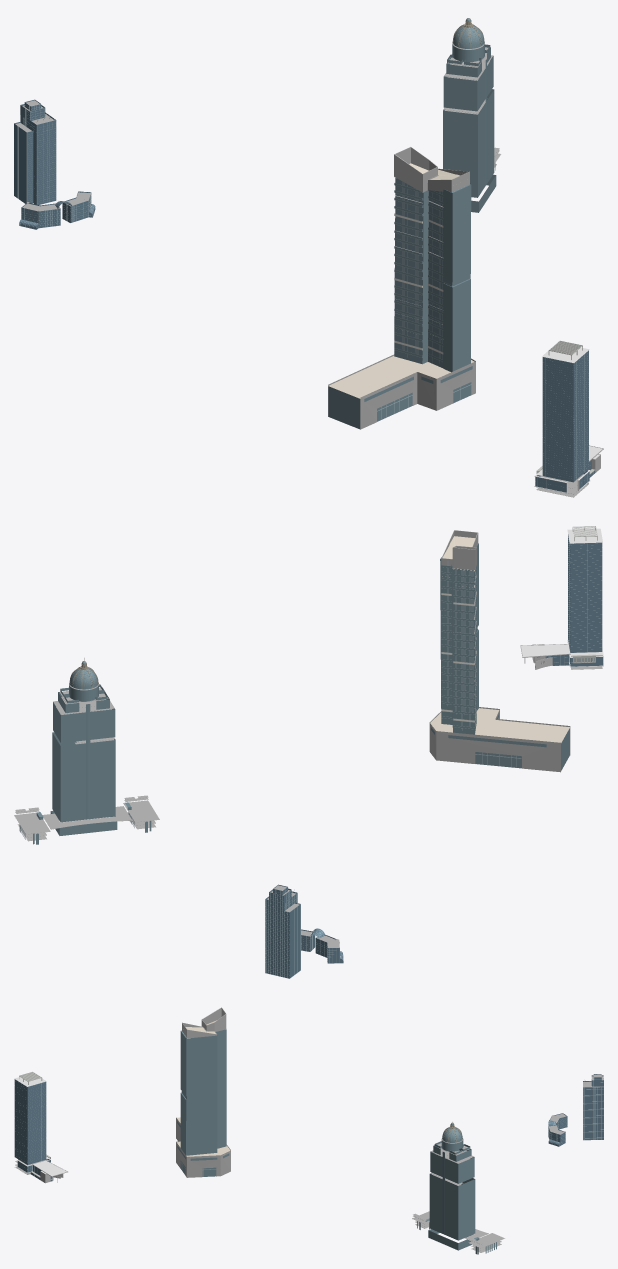
Rendered from lujiazui-18.glb.
3 renders of one model, top to bottom at view 1: azimuth 30°, elevation 25°; view 2: azimuth 150°, elevation 25°; view 3: azimuth 270°, elevation 25°, orthographic. The views are drawn at different scales.
Visible parts, largest first — view 1: source_2926_Mat3d66-1303573-2120-8235_part0, source_2930_Mat3d66-1303573-2120-8235_part0, source_2918_Mat3d66-1303573-2120-8235_part0, source_2916_Mat3d66-1303573-2170-3213_part0, source_2909_Mat3d66-1303573-2170-3213_part0, source_2920_Mat3d66-1303573-2040-167_part0, source_2919_Mat3d66-1303573-2051-9833_part0, source_2925_Mat3d66-1303573-2035-4469_part0, source_2922_Mat3d66-1303573-2119-613_part0, source_2921_Mat3d66-1303573-2110-2540_part0, source_2907_Mat3d66-1303573-2119-613_part0, source_2928_Mat3d66-1303573-2153-4388_part0 (+1 smaller); view 2: source_2930_Mat3d66-1303573-2120-8235_part0, source_2926_Mat3d66-1303573-2120-8235_part0, source_2916_Mat3d66-1303573-2170-3213_part0, source_2909_Mat3d66-1303573-2170-3213_part0, source_2920_Mat3d66-1303573-2040-167_part0, source_2928_Mat3d66-1303573-2153-4388_part0, source_2919_Mat3d66-1303573-2051-9833_part0, source_2918_Mat3d66-1303573-2120-8235_part0, source_2922_Mat3d66-1303573-2119-613_part0, source_2907_Mat3d66-1303573-2119-613_part0, source_2913_Mat3d66-1303573-11-3935_part0, source_2921_Mat3d66-1303573-2110-2540_part0 (+2 smaller); view 3: source_2926_Mat3d66-1303573-2120-8235_part0, source_2930_Mat3d66-1303573-2120-8235_part0, source_2916_Mat3d66-1303573-2170-3213_part0, source_2909_Mat3d66-1303573-2170-3213_part0, source_2928_Mat3d66-1303573-2153-4388_part0, source_2920_Mat3d66-1303573-2040-167_part0, source_2918_Mat3d66-1303573-2120-8235_part0, source_2907_Mat3d66-1303573-2119-613_part0, source_2925_Mat3d66-1303573-2035-4469_part0, source_2913_Mat3d66-1303573-11-3935_part0.
Part boxes in pixels (left/top/right/bottom): source_2926_Mat3d66-1303573-2120-8235_part0: left=328, top=178, right=472, bottom=429; source_2930_Mat3d66-1303573-2120-8235_part0: left=443, top=18, right=496, bottom=212; source_2918_Mat3d66-1303573-2120-8235_part0: left=394, top=183, right=470, bottom=372; source_2916_Mat3d66-1303573-2170-3213_part0: left=535, top=350, right=594, bottom=492; source_2909_Mat3d66-1303573-2170-3213_part0: left=14, top=99, right=95, bottom=229; source_2920_Mat3d66-1303573-2040-167_part0: left=328, top=354, right=475, bottom=429; source_2919_Mat3d66-1303573-2051-9833_part0: left=328, top=163, right=474, bottom=398; source_2925_Mat3d66-1303573-2035-4469_part0: left=394, top=147, right=469, bottom=192; source_2922_Mat3d66-1303573-2119-613_part0: left=377, top=182, right=471, bottom=419; source_2921_Mat3d66-1303573-2110-2540_part0: left=394, top=183, right=451, bottom=361; source_2907_Mat3d66-1303573-2119-613_part0: left=14, top=100, right=95, bottom=229; source_2928_Mat3d66-1303573-2153-4388_part0: left=443, top=42, right=500, bottom=167; source_2930_Mat3d66-1303573-2120-8235_part0: left=19, top=661, right=151, bottom=844; source_2926_Mat3d66-1303573-2120-8235_part0: left=431, top=557, right=569, bottom=770; source_2916_Mat3d66-1303573-2170-3213_part0: left=537, top=534, right=603, bottom=666; source_2909_Mat3d66-1303573-2170-3213_part0: left=265, top=885, right=343, bottom=978; source_2920_Mat3d66-1303573-2040-167_part0: left=429, top=707, right=570, bottom=772; source_2928_Mat3d66-1303573-2153-4388_part0: left=14, top=683, right=159, bottom=841; source_2919_Mat3d66-1303573-2051-9833_part0: left=430, top=536, right=569, bottom=742; source_2918_Mat3d66-1303573-2120-8235_part0: left=441, top=543, right=478, bottom=729; source_2922_Mat3d66-1303573-2119-613_part0: left=447, top=561, right=521, bottom=767; source_2907_Mat3d66-1303573-2119-613_part0: left=265, top=884, right=343, bottom=978; source_2913_Mat3d66-1303573-11-3935_part0: left=521, top=528, right=602, bottom=656; source_2921_Mat3d66-1303573-2110-2540_part0: left=441, top=565, right=477, bottom=729; source_2926_Mat3d66-1303573-2120-8235_part0: left=177, top=1029, right=229, bottom=1176; source_2930_Mat3d66-1303573-2120-8235_part0: left=417, top=1123, right=496, bottom=1254; source_2916_Mat3d66-1303573-2170-3213_part0: left=14, top=1079, right=52, bottom=1181; source_2909_Mat3d66-1303573-2170-3213_part0: left=548, top=1074, right=603, bottom=1146; source_2928_Mat3d66-1303573-2153-4388_part0: left=412, top=1139, right=504, bottom=1252; source_2920_Mat3d66-1303573-2040-167_part0: left=176, top=1117, right=230, bottom=1177; source_2918_Mat3d66-1303573-2120-8235_part0: left=180, top=1030, right=186, bottom=1155; source_2907_Mat3d66-1303573-2119-613_part0: left=548, top=1074, right=603, bottom=1146; source_2925_Mat3d66-1303573-2035-4469_part0: left=182, top=1007, right=226, bottom=1037; source_2913_Mat3d66-1303573-11-3935_part0: left=14, top=1077, right=66, bottom=1175.
Size of the model in its own units: 444 by 235 by 822.
